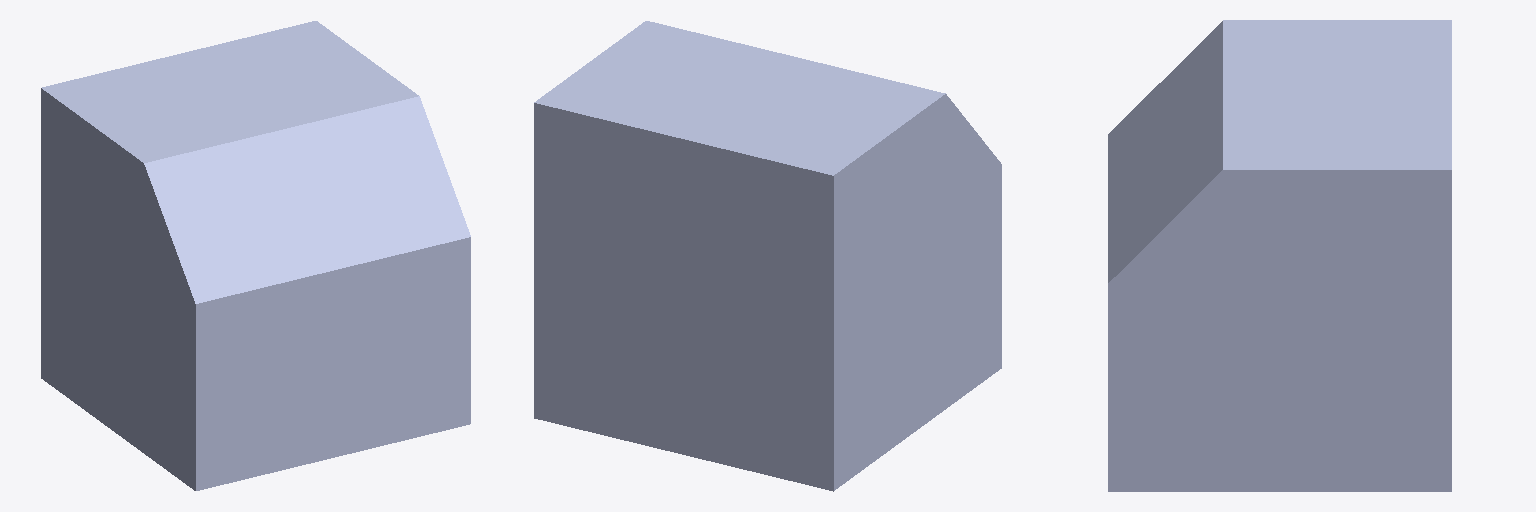
robot.urdf — Box5:
<?xml version="1.0" encoding="utf-8"?>
<!-- This URDF was automatically created by SolidWorks to URDF Exporter! Originally created by [author] ([email redacted]) 
     Commit Version: 1.6.0-1-g15f4949  Build Version: 1.6.7594.29634
     For more information, please see http://wiki.ros.org/sw_urdf_exporter -->
<robot
  name="Box5">
  <link
    name="base_link">
    <inertial>
      <origin
        xyz="0.077 0.0786666666666666 0.0737809523809524"
        rpy="0 0 0" />
      <mass
        value="3.36875" />
      <inertia
        ixx="0.0122632059305556"
        ixy="3.07649425050656E-19"
        ixz="5.04024938518558E-20"
        iyy="0.0130027802361111"
        iyz="-0.00076059423611111"
        izz="0.0125759715277778" />
    </inertial>
    <visual>
      <origin
        xyz="0 0 0"
        rpy="0 0 0" />
      <geometry>
        <mesh
          filename="package://Box5/meshes/base_link.STL" />
      </geometry>
      <material
        name="">
        <color
          rgba="0.792156862745098 0.819607843137255 0.933333333333333 1" />
      </material>
    </visual>
    <collision>
      <origin
        xyz="0 0 0"
        rpy="0 0 0" />
      <geometry>
        <mesh
          filename="package://Box5/meshes/base_link.STL" />
      </geometry>
    </collision>
  </link>
</robot>

--- Facts derived from the render (not from the file) ---
3 views of the same robot in one strip: view 1: azimuth 30°, elevation 25°; view 2: azimuth 150°, elevation 25°; view 3: azimuth 270°, elevation 25° (orthographic).
Model Box5 with 1 links and 0 joints (none), rooted at base_link, posed every joint at zero.
Visible links, largest first — view 1: base_link; view 2: base_link; view 3: base_link.
Link boxes in pixels (x1,y1,x2,y2): base_link: (41,21,470,490); base_link: (534,21,1001,491); base_link: (1108,20,1451,491).
Size in the robot's own frame: 0.154 by 0.15 by 0.155 metres.
1 mesh visuals loaded from 1 distinct referenced files (1 binary STL).